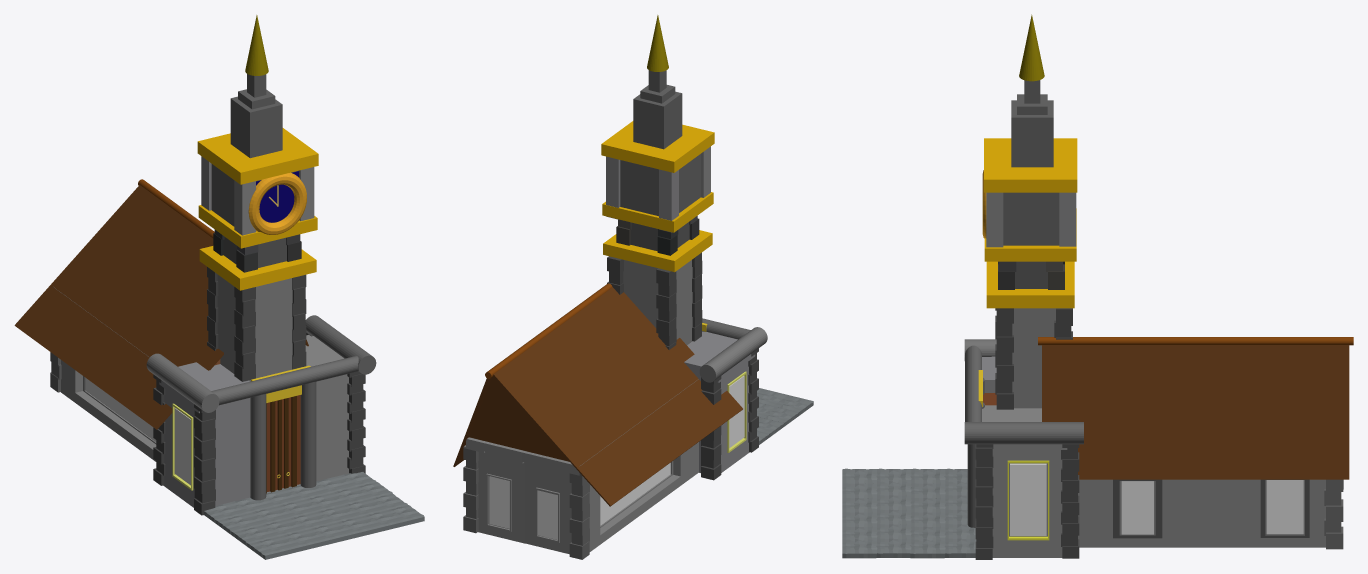
File: KERK_project.fbx
The picture shows the model from 3 angles, left to right: view 1: azimuth 30°, elevation 25°; view 2: azimuth 150°, elevation 25°; view 3: azimuth 270°, elevation 25°; orthographic projection. The views are drawn at different scales.
Parts seen in each view (by area): view 1: kerk_LOD0; view 2: kerk_LOD0; view 3: kerk_LOD0.
Part boxes in pixels (<box>): kerk_LOD0: <box>14,15,424,559</box>; kerk_LOD0: <box>453,15,813,559</box>; kerk_LOD0: <box>842,14,1353,559</box>.
Size of what is drawn, in the model's own units: 27.05 by 64.97 by 59.93.
